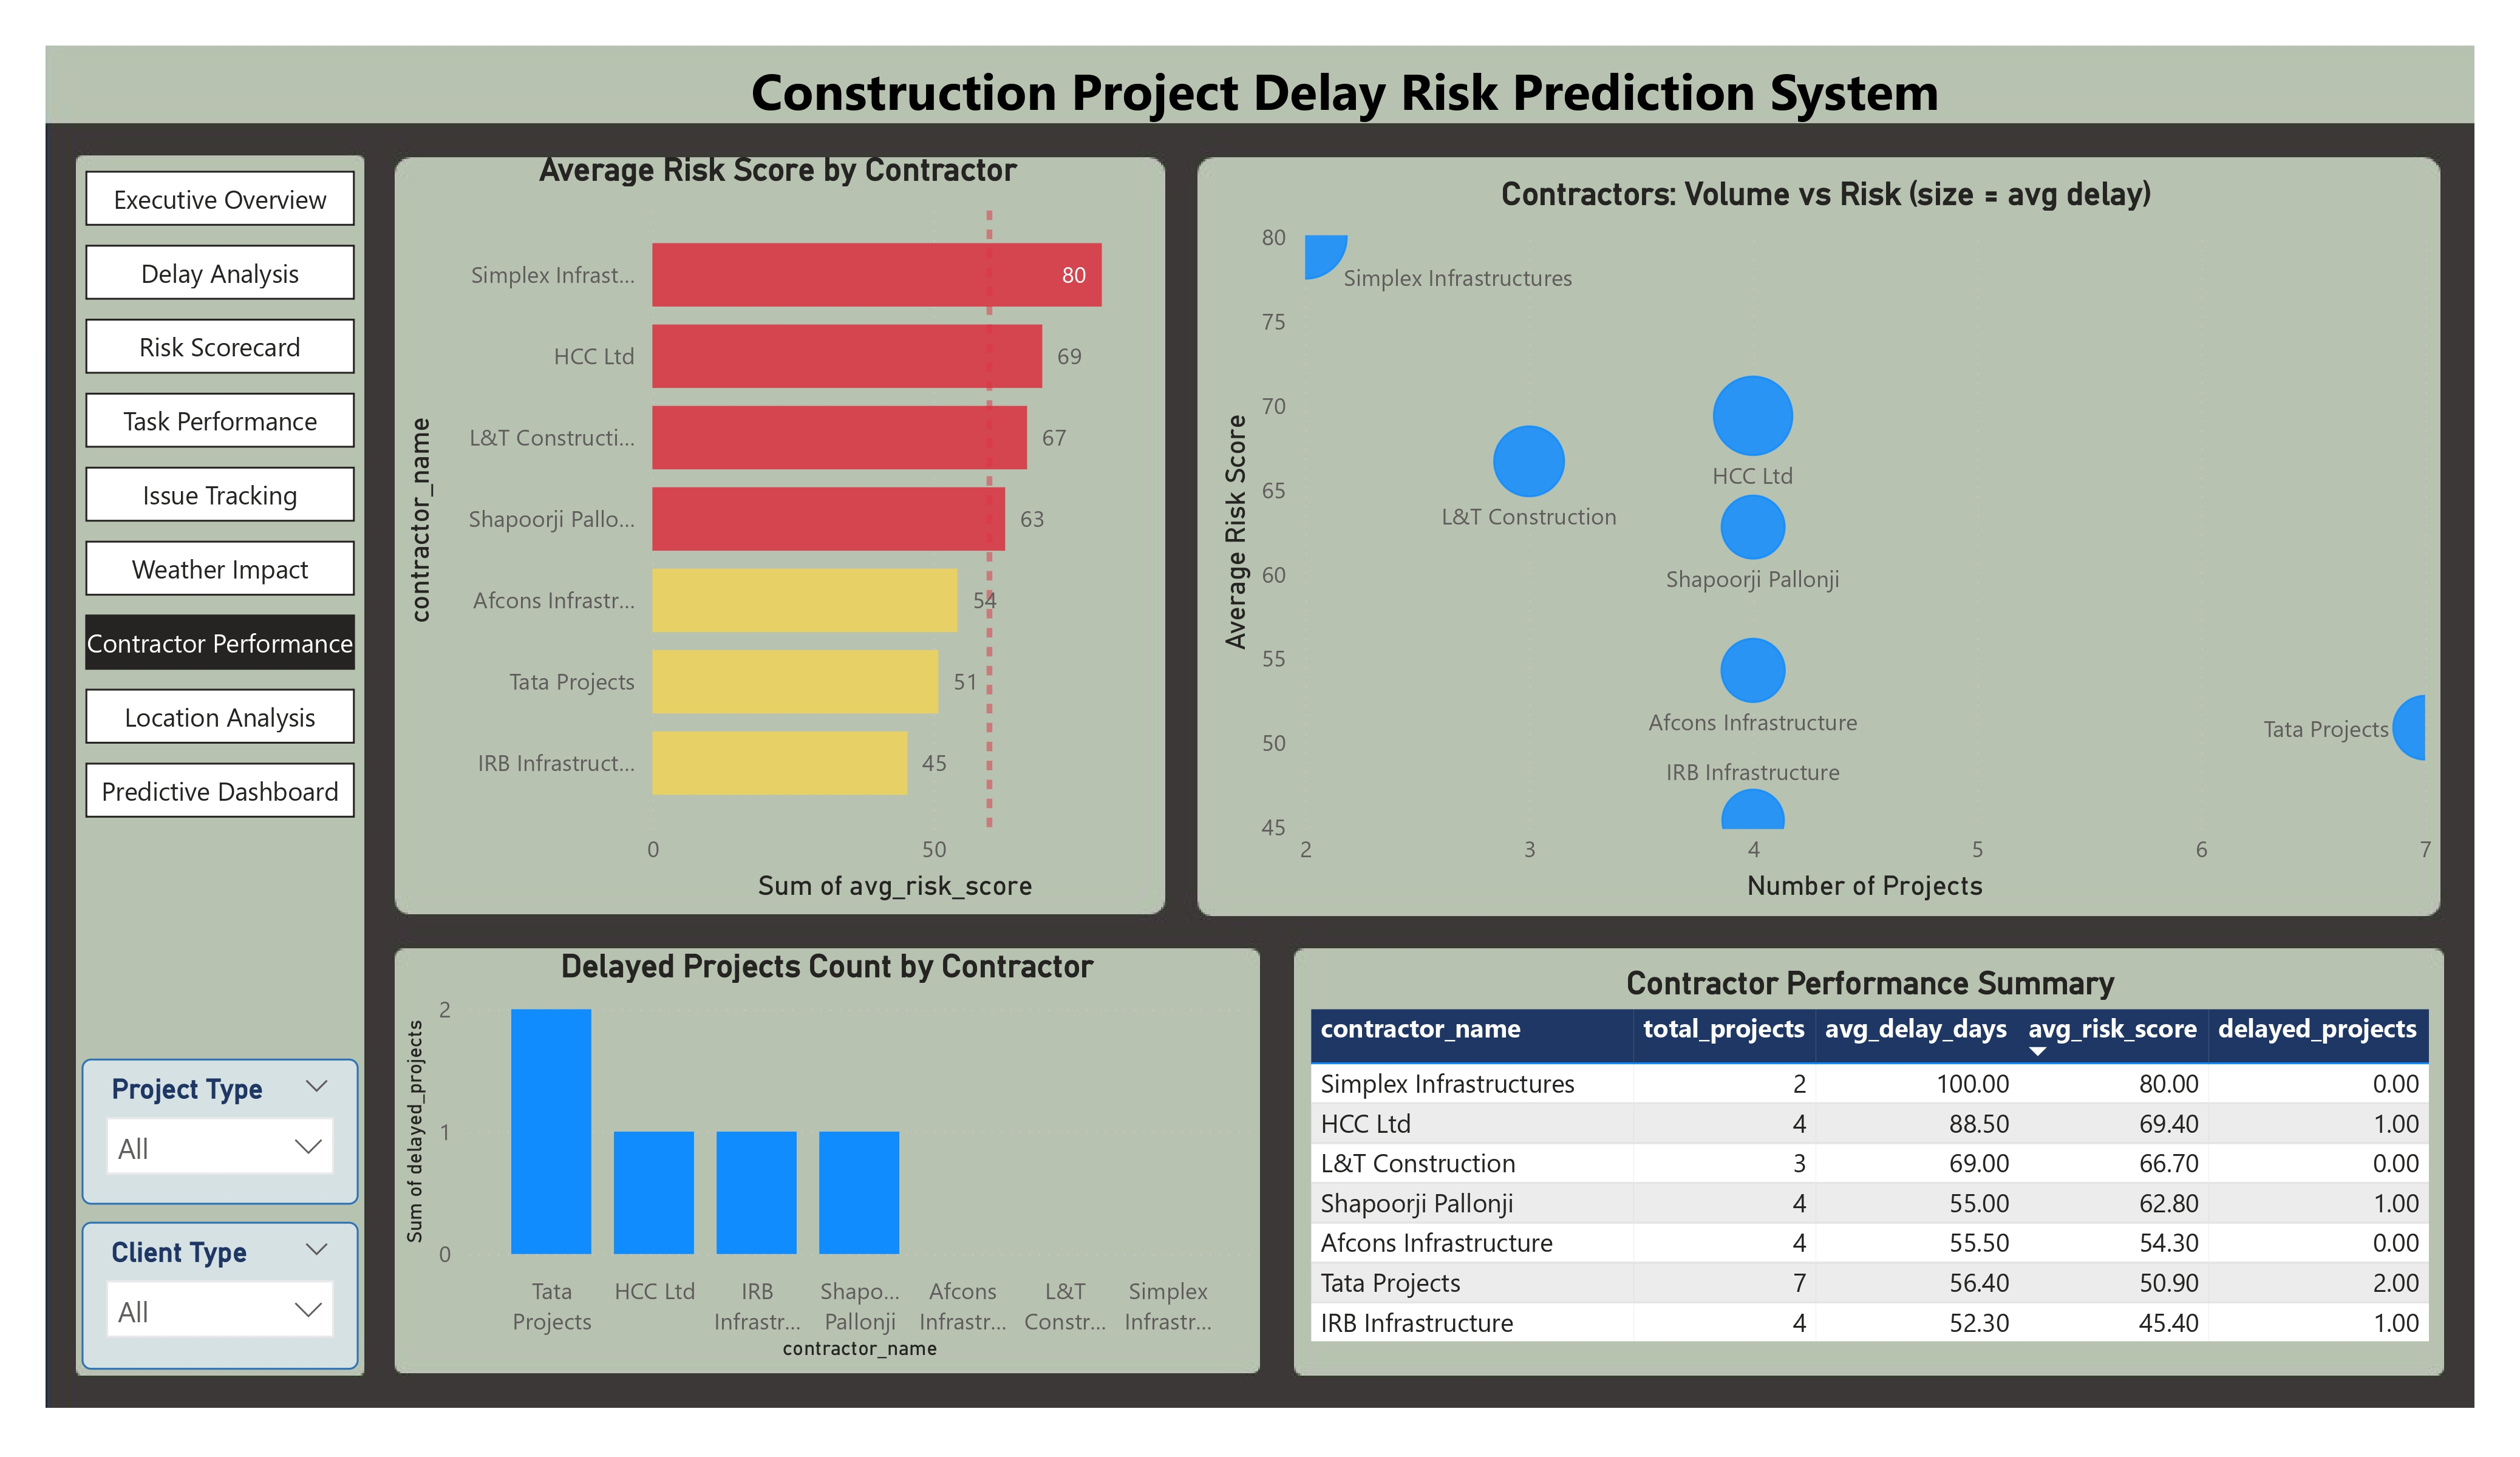

This screenshot's page, from the dashboard's own definition file:
{"tool":"powerbi","page":{"name":"Contractor Performance","canvas":[1280,720],"ordinal":6},"visuals":[{"type":"tableEx","title":"Contractor Performance Summary","fields":{"Values":["vw_contractorperformance.contractor_name","vw_contractorperformance.total_projects","vw_contractorperformance.avg_delay_days","vw_contractorperformance.avg_risk_score","vw_contractorperformance.delayed_projects"]},"box":[661.2,483.8,601.2,213.8],"z":0},{"type":"clusteredBarChart","title":"Average Risk Score by Contractor","fields":{"Category":["vw_contractorperformance.contractor_name"],"Y":["Sum(vw_contractorperformance.avg_risk_score)"]},"box":[183.8,55,403.8,401.2],"z":1000},{"type":"scatterChart","title":"Contractors: Volume vs Risk (size = avg delay)","fields":{"X":["Sum(vw_contractorperformance.total_projects)"],"Y":["Sum(vw_contractorperformance.avg_risk_score)"],"Size":["Sum(vw_contractorperformance.avg_delay_days)"],"Category":["vw_contractorperformance.contractor_name"]},"box":[613.8,67.5,648.8,388.8],"z":2000},{"type":"clusteredColumnChart","title":"Delayed Projects Count by Contractor","fields":{"Category":["vw_contractorperformance.contractor_name"],"Y":["Sum(vw_contractorperformance.delayed_projects)"]},"box":[183.8,475,456.2,222.5],"z":3000},{"type":"slicer","fields":{"Values":["factprojectmetrics.project_type"]},"box":[18.8,533.8,146.2,77.5],"z":4000},{"type":"slicer","fields":{"Values":["factprojectmetrics.client_type"]},"box":[18.8,620,146.2,77.5],"z":5000},{"type":"pageNavigator","box":[21.2,66.2,141.2,343.8],"z":6000},{"type":"textbox","box":[366.7,0,656,56],"z":6001}]}

Visuals, with their boxes on the page's 1280x720 design canvas (x1, y1, x2, y2). These are canvas units, not pixel positions in the 2520x1457 screenshot, which may show the page scaled, cropped or inside an application window:
"Contractor Performance Summary" tableEx: x1=661 y1=484 x2=1262 y2=698
"Average Risk Score by Contractor" clusteredBarChart: x1=184 y1=55 x2=588 y2=456
"Contractors: Volume vs Risk (size = avg delay)" scatterChart: x1=614 y1=68 x2=1263 y2=456
"Delayed Projects Count by Contractor" clusteredColumnChart: x1=184 y1=475 x2=640 y2=698
slicer - factprojectmetrics.project_type: x1=19 y1=534 x2=165 y2=611
slicer - factprojectmetrics.client_type: x1=19 y1=620 x2=165 y2=698
pageNavigator: x1=21 y1=66 x2=162 y2=410
textbox: x1=367 y1=0 x2=1023 y2=56
